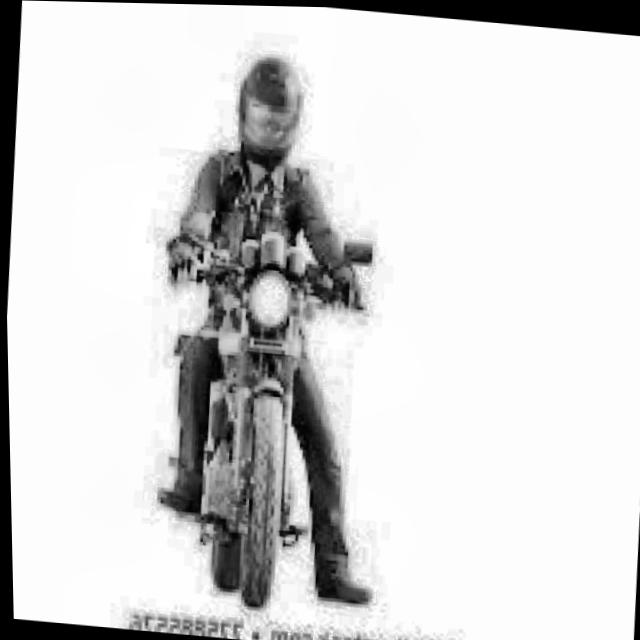motorcycle: (111, 195, 411, 627)
